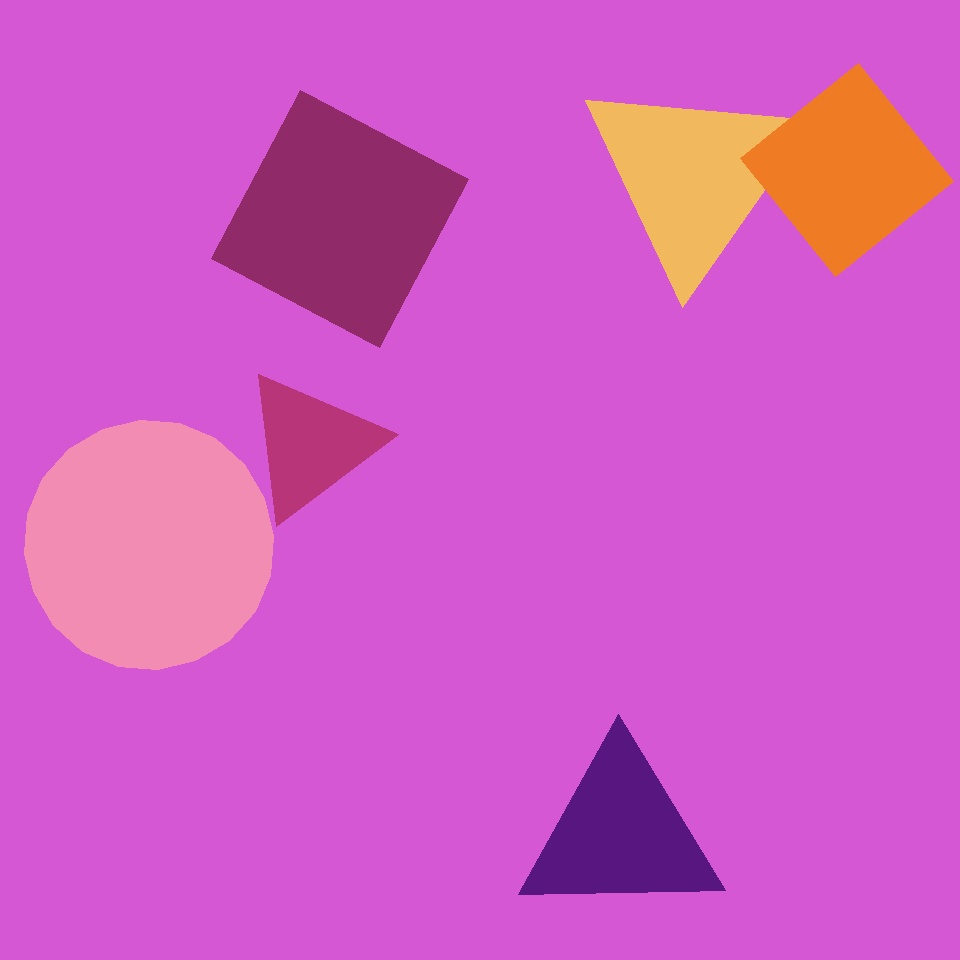circle: (580, 72, 808, 280), (518, 743, 724, 923), (241, 369, 381, 521)
square: (212, 90, 468, 347), (740, 64, 954, 276)
triangle: (24, 420, 274, 670)
